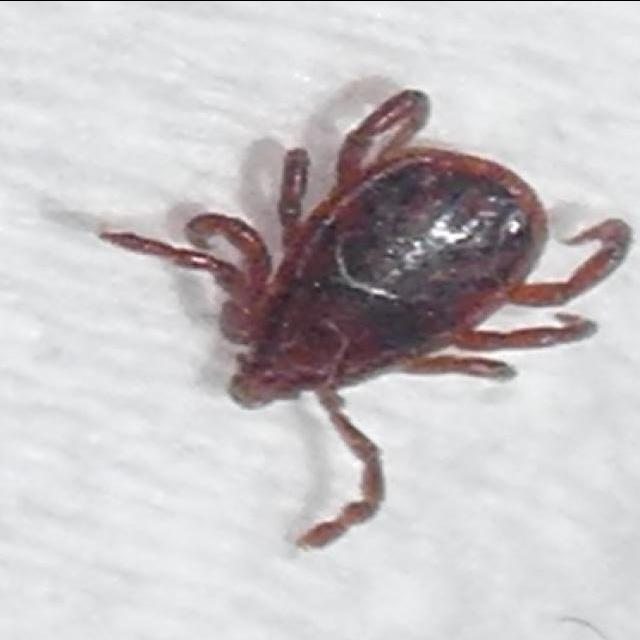Rhipicephalus Sanguineus-M: (98, 86, 631, 552)
